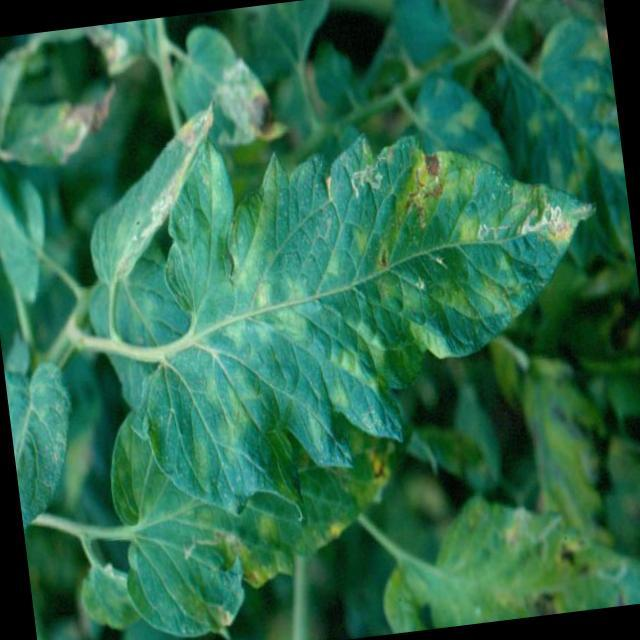Leaf Mold: (95, 99, 631, 531)
